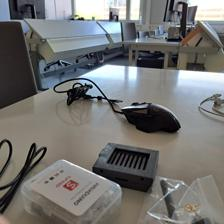mouse: (120, 98, 181, 135)
